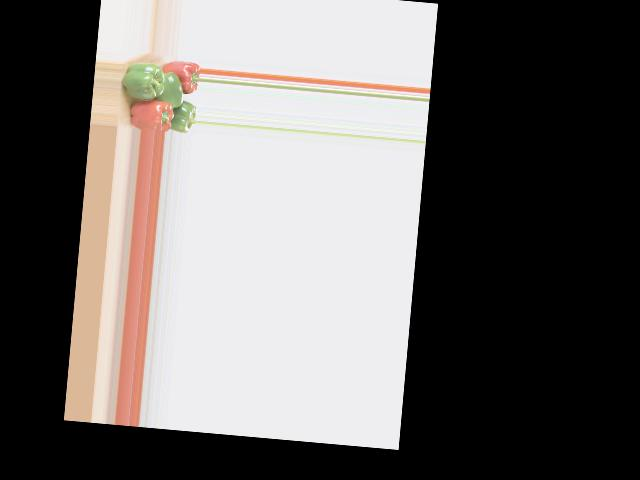bell_pepper: (124, 96, 173, 132)
